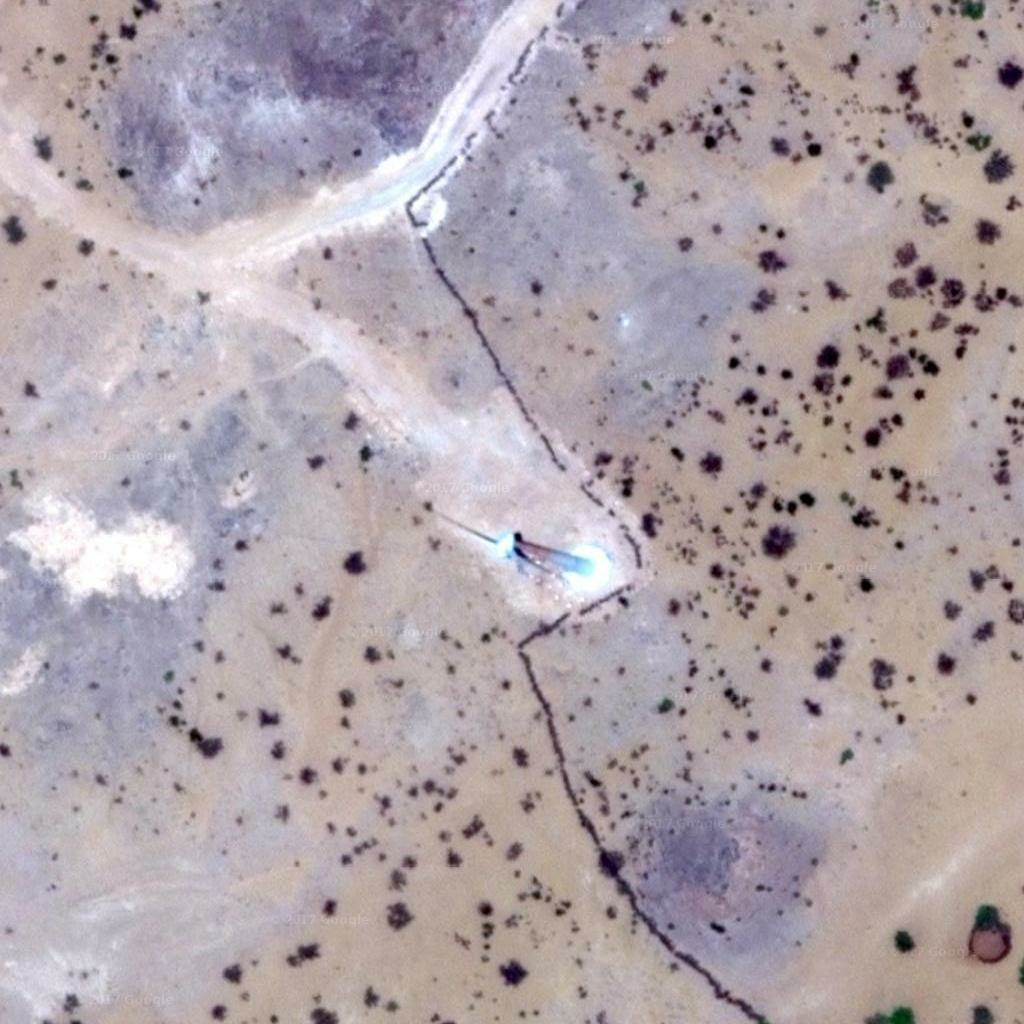Windmill: (566, 558, 756, 667)
